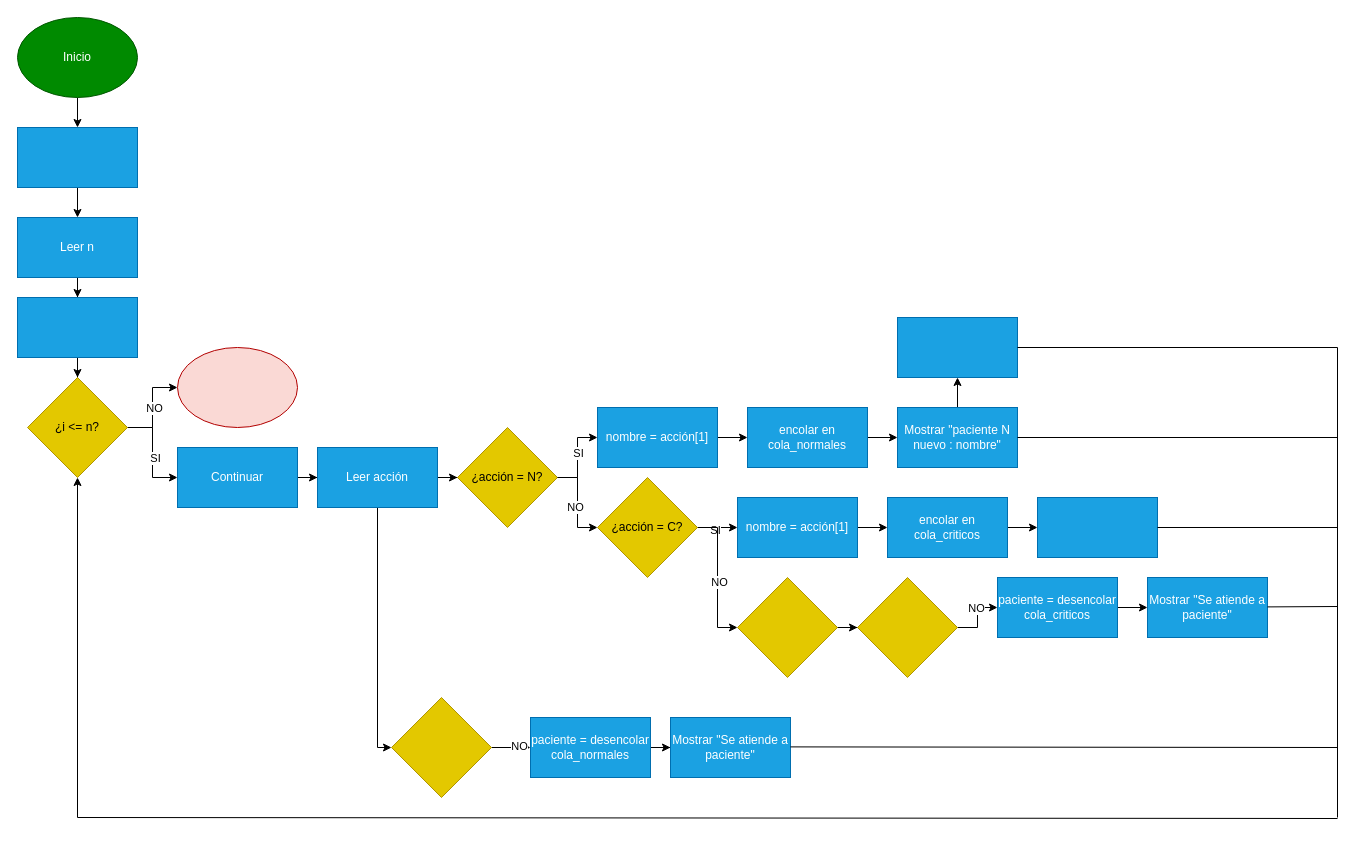
This 1356x843 diagram has some shape labels left out. Each missing label, with the centre of its shape:
Fin: point (237, 387)
i = i + 1: point (957, 347)
Iniciar contador i=1: point (77, 327)
Mostrar "Paciente C nuevo : nombre": point (1097, 527)
Mostrar "Sistema de atención medica": point (77, 157)
¿acción = A?: point (787, 627)
¿cola_criticos vacía?: point (907, 627)
¿cola_normales vacía?: point (441, 747)
